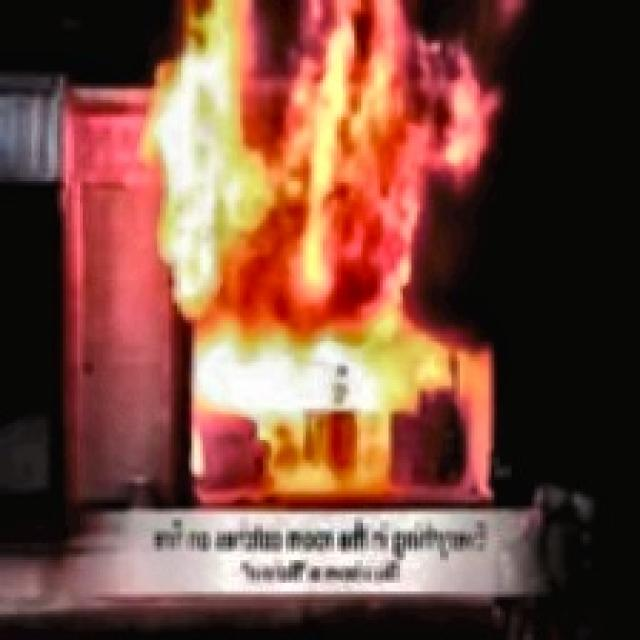fire: (114, 3, 523, 434)
